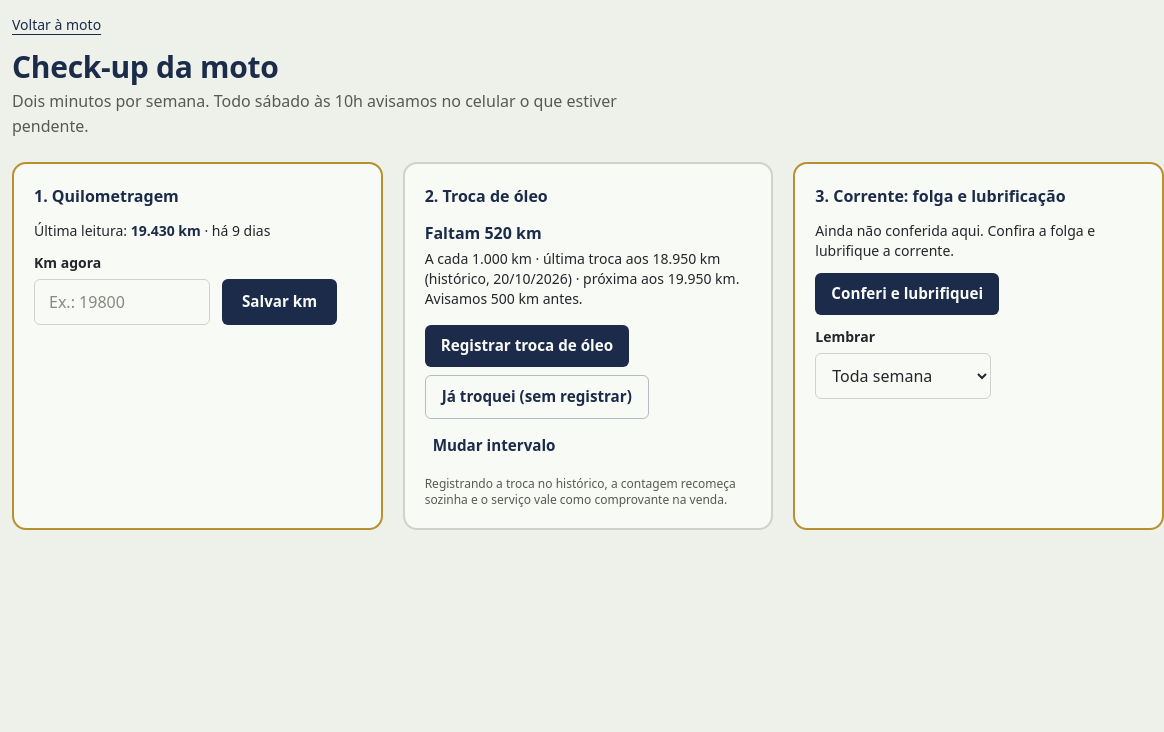
Check-up da moto (ADR-041) › mostra km desatualizado, óleo e corrente; atualiza o km com um campo
The width and height of the screenshot is (1164, 732).
Expected: the text "Última leitura: 19.430 km · há 9 dias" is shown, [34,221,270,240]
Expected: the text "Faltam 520 km" is shown, [425,222,542,244]
In the field labelled "Km agora": [122, 302] box [34,279,210,325], type "19.820"
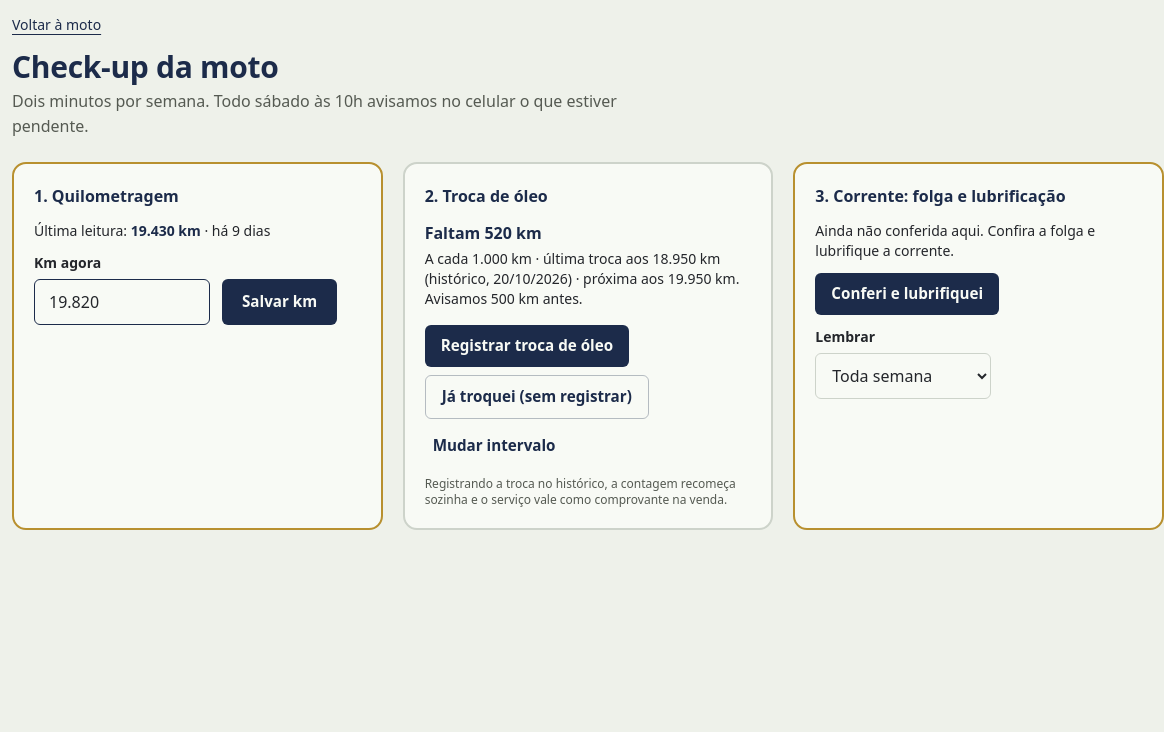
Click the button "Salvar km": [280, 302] box [222,280,337,325]
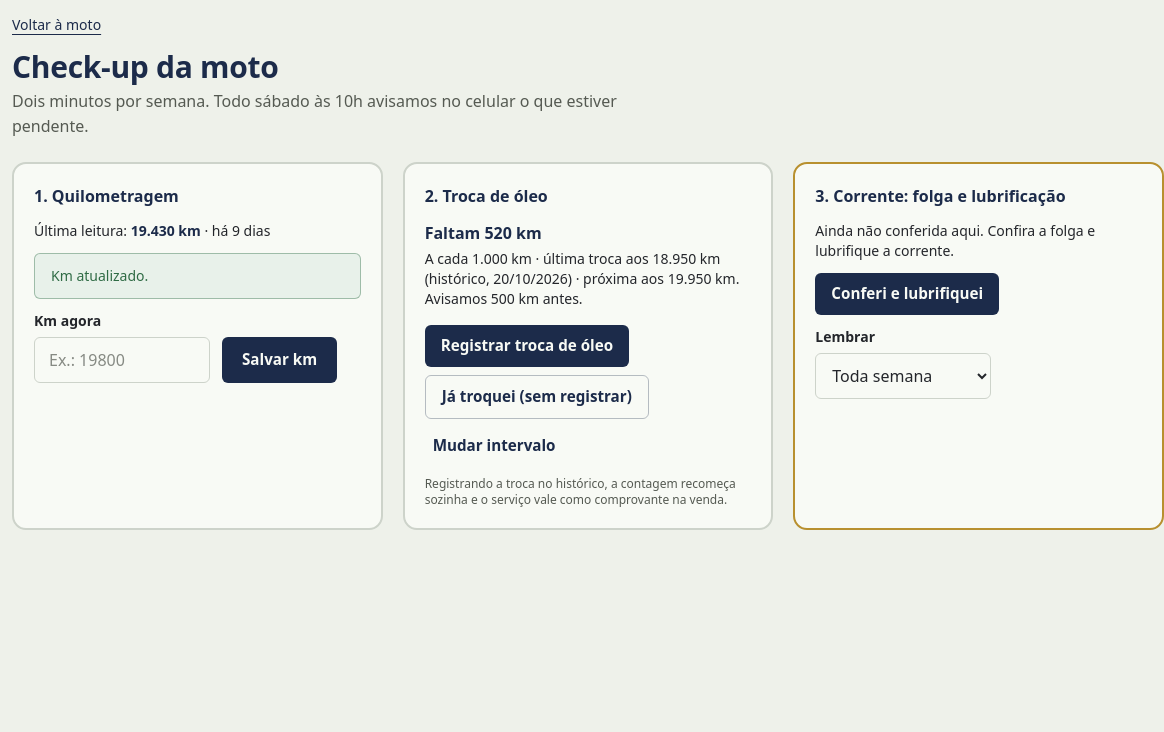
Result: the text "Km atualizado." is shown at [51,266,148,285]
